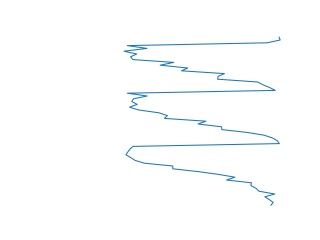distributaryMouthBar: (122, 36, 282, 208)
